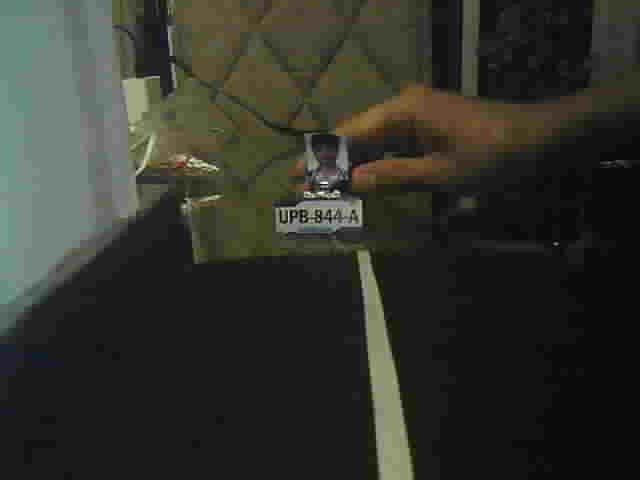PLACA: (273, 197, 364, 237)
ROSTRO: (304, 133, 349, 177)
